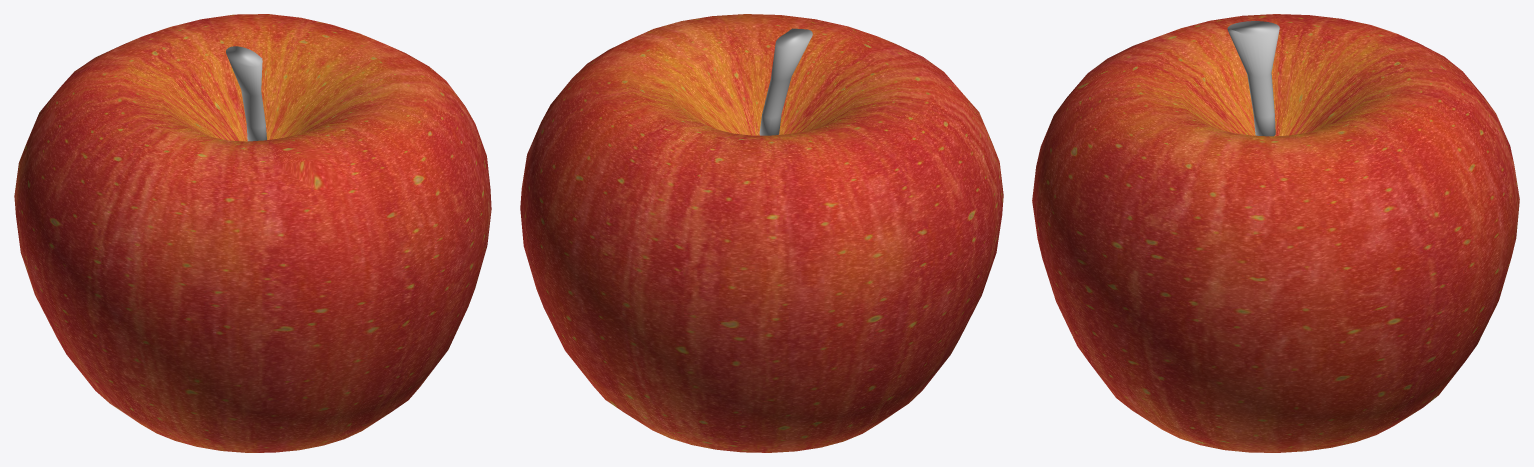
The model's file is apple.fbx.
3 views of the same model, side by side, from view 1: azimuth 30°, elevation 25°; view 2: azimuth 150°, elevation 25°; view 3: azimuth 270°, elevation 25° (orthographic).
Visible parts, largest first — view 1: Sfera, Cilindro; view 2: Sfera, Cilindro; view 3: Sfera, Cilindro.
Boxes of the visible parts, left/top/right/bottom form: Sfera: left=14, top=14, right=491, bottom=452; Cilindro: left=226, top=46, right=266, bottom=141; Sfera: left=520, top=14, right=1003, bottom=452; Cilindro: left=759, top=28, right=812, bottom=135; Sfera: left=1032, top=14, right=1519, bottom=452; Cilindro: left=1227, top=21, right=1279, bottom=136.
Bounding box in the file's own units: 183 × 157 × 183.
